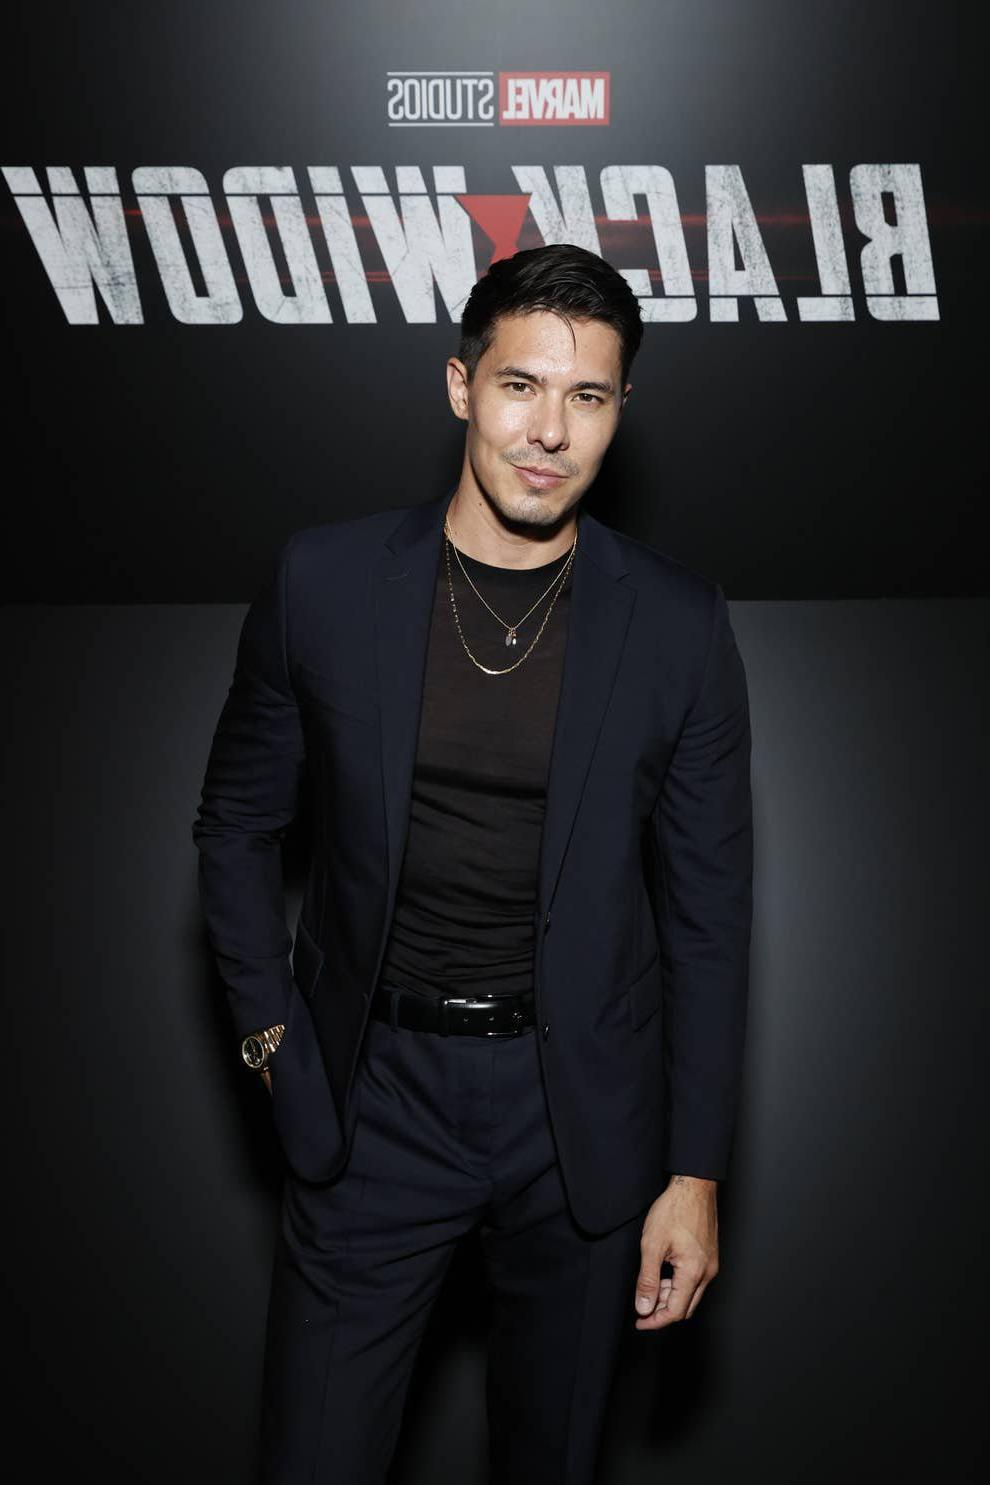Sober: (468, 304, 615, 522)
